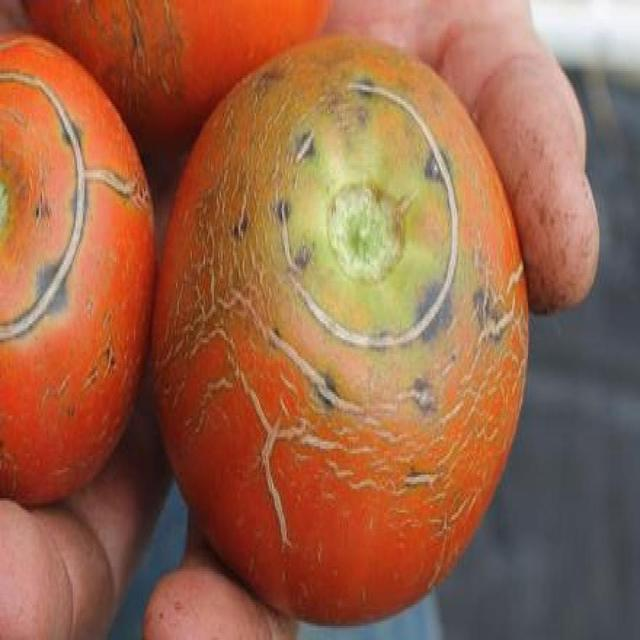Cracking Fruit: (30, 33, 294, 280)
